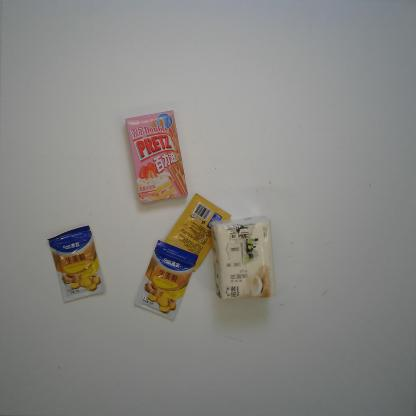Dessert: (125, 109, 188, 205)
Seasoner: (164, 192, 232, 274), (134, 239, 199, 322), (47, 225, 107, 303)
Tissue: (209, 214, 278, 302)
